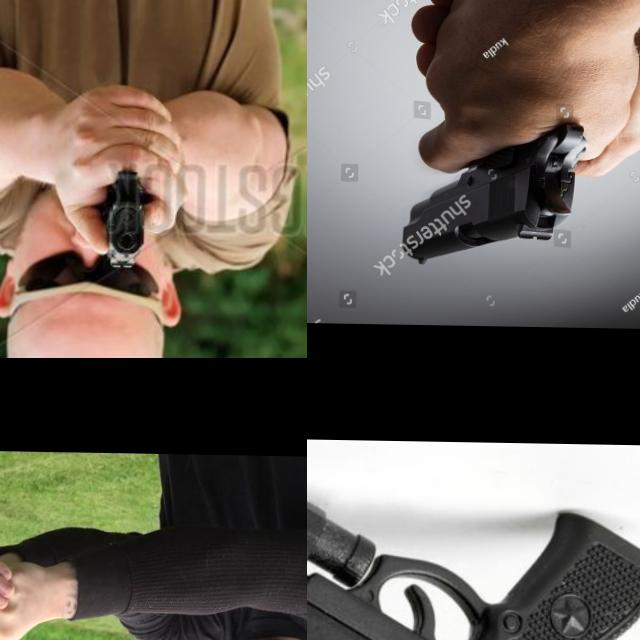handgun: (307, 462, 640, 640), (397, 118, 588, 272), (96, 168, 148, 272), (0, 597, 66, 640)
